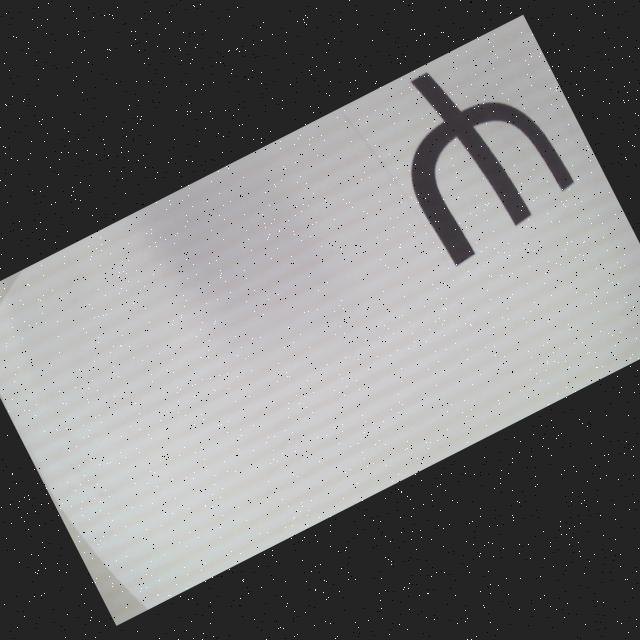PSI: (367, 35, 586, 272)
